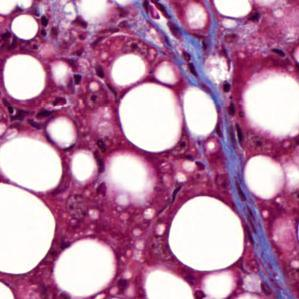steatosis: (169, 197, 248, 274), (53, 241, 115, 298), (2, 55, 50, 103)
